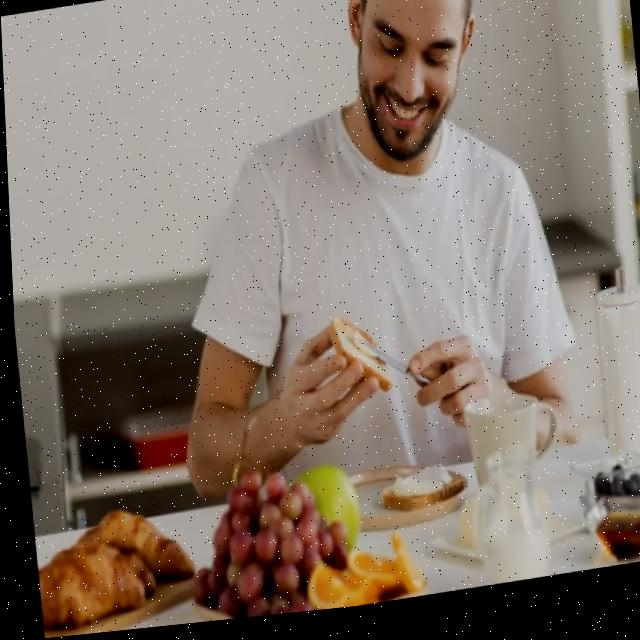eating-person: (28, 0, 640, 639)
